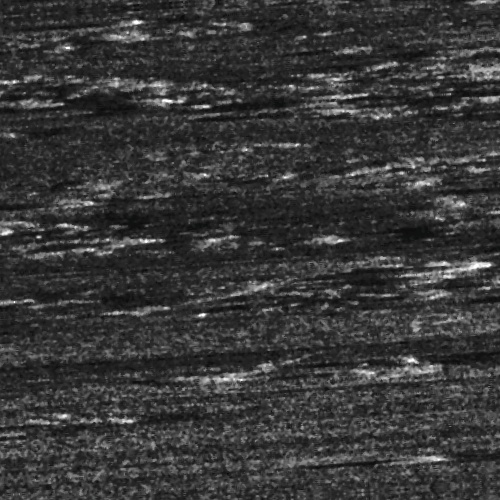object: (417, 268, 500, 285), (313, 96, 386, 105), (42, 184, 115, 193), (0, 205, 44, 216), (101, 227, 174, 232), (393, 464, 446, 469), (111, 9, 164, 14), (339, 51, 392, 56), (0, 407, 16, 418)
shadow: (328, 268, 464, 285), (238, 96, 349, 105), (0, 184, 78, 193), (55, 9, 137, 14), (59, 227, 137, 232), (293, 51, 365, 56), (349, 464, 420, 469)
